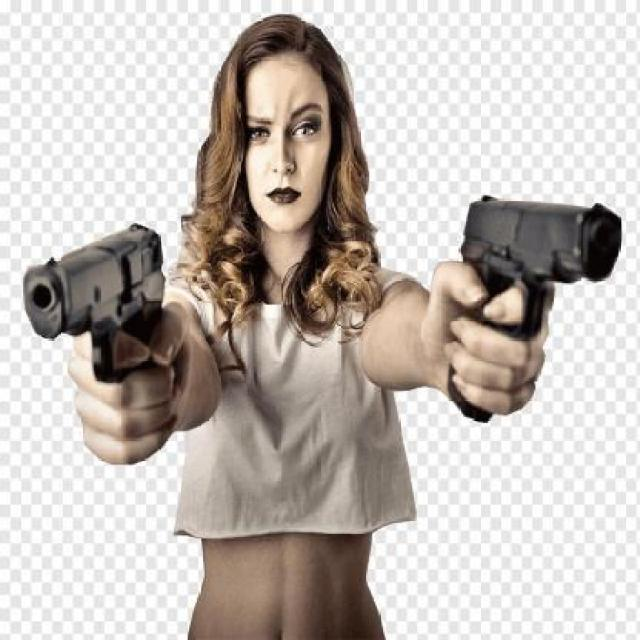Handgun: (444, 180, 628, 429), (9, 216, 174, 462)
